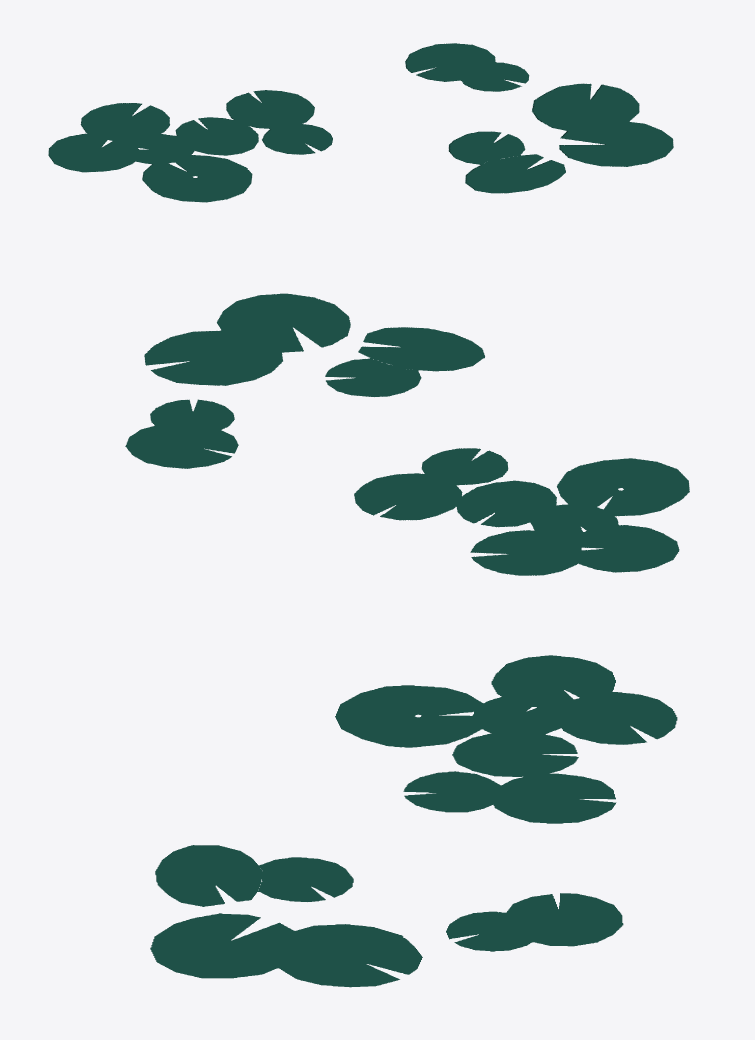
Rendered from Pond_NoAnim_shadow.glb.
The picture shows the model from 3 angles, top to bottom: view 1: azimuth 30°, elevation 25°; view 2: azimuth 150°, elevation 25°; view 3: azimuth 270°, elevation 25°; orthographic projection. The views are drawn at different scales.
Visible parts, largest first — view 1: Pond.001; view 2: Pond.001; view 3: Pond.001.
Part boxes in pixels (x1=…): Pond.001: x1=48, y1=43, x2=673, y2=202; Pond.001: x1=125, y1=293, x2=689, y2=575; Pond.001: x1=150, y1=655, x2=677, y2=987.
Size of the model in its own units: 9.58 by 2.38e-07 by 7.47.
1 material, 1 textured.
